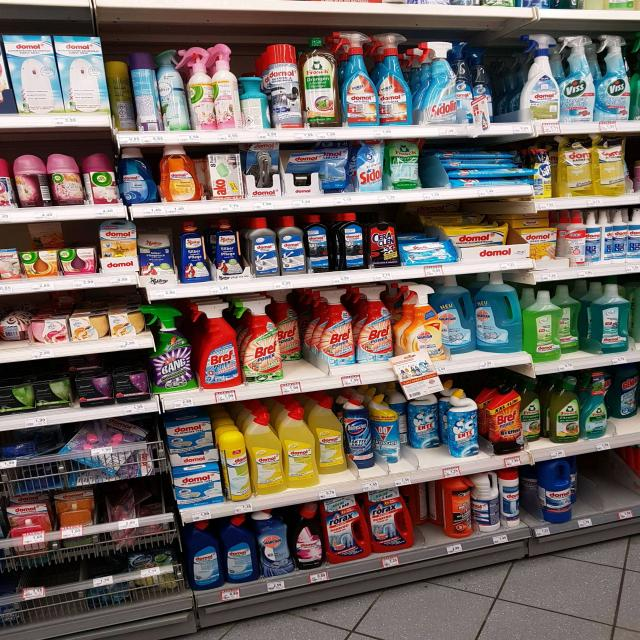empty: (587, 448, 636, 518)
